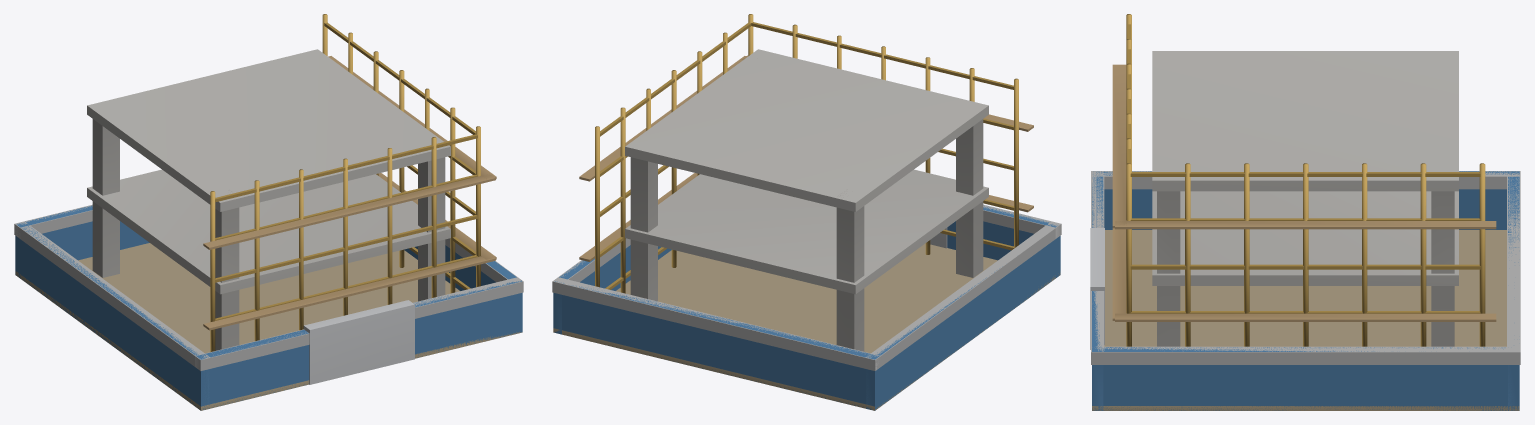
File: build-1-1.glb
The picture shows the model from 3 angles, left to right: view 1: azimuth 30°, elevation 25°; view 2: azimuth 150°, elevation 25°; view 3: azimuth 270°, elevation 25°; orthographic projection. The views are drawn at different scales.
Parts seen in each view (by area): view 1: build-1-1; view 2: build-1-1; view 3: build-1-1.
Boxes of the visible parts, <box> form: build-1-1: <box>14,14,523,410</box>; build-1-1: <box>552,14,1061,410</box>; build-1-1: <box>1090,14,1520,410</box>.
Bounding box in the file's own units: 0.924 × 0.548 × 0.925.
